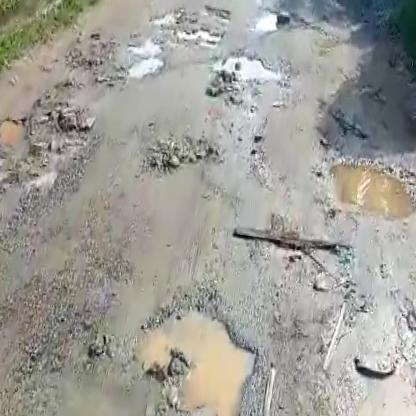pothole: (120, 288, 267, 416), (0, 66, 100, 171), (317, 151, 416, 225), (25, 312, 110, 381), (203, 46, 289, 106), (112, 35, 169, 88), (157, 11, 236, 47)
